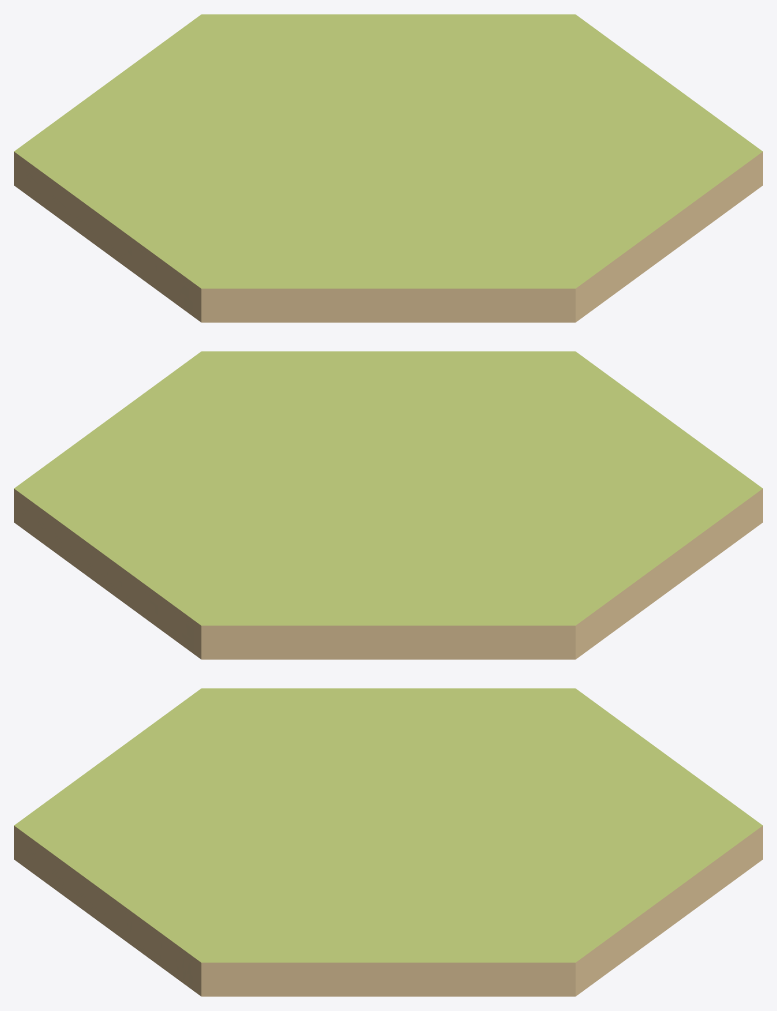
Rendered from Tile_03.fbx.
3 renders of one model, top to bottom at view 1: azimuth 30°, elevation 25°; view 2: azimuth 150°, elevation 25°; view 3: azimuth 270°, elevation 25°, orthographic.
Visible parts, largest first — view 1: Cylinder.002; view 2: Cylinder.002; view 3: Cylinder.002.
Part boxes in pixels (<box>): Cylinder.002: <box>14,14,762,322</box>; Cylinder.002: <box>14,351,762,659</box>; Cylinder.002: <box>14,688,762,996</box>.
Bounding box in the file's own units: 173 × 10 × 200.
